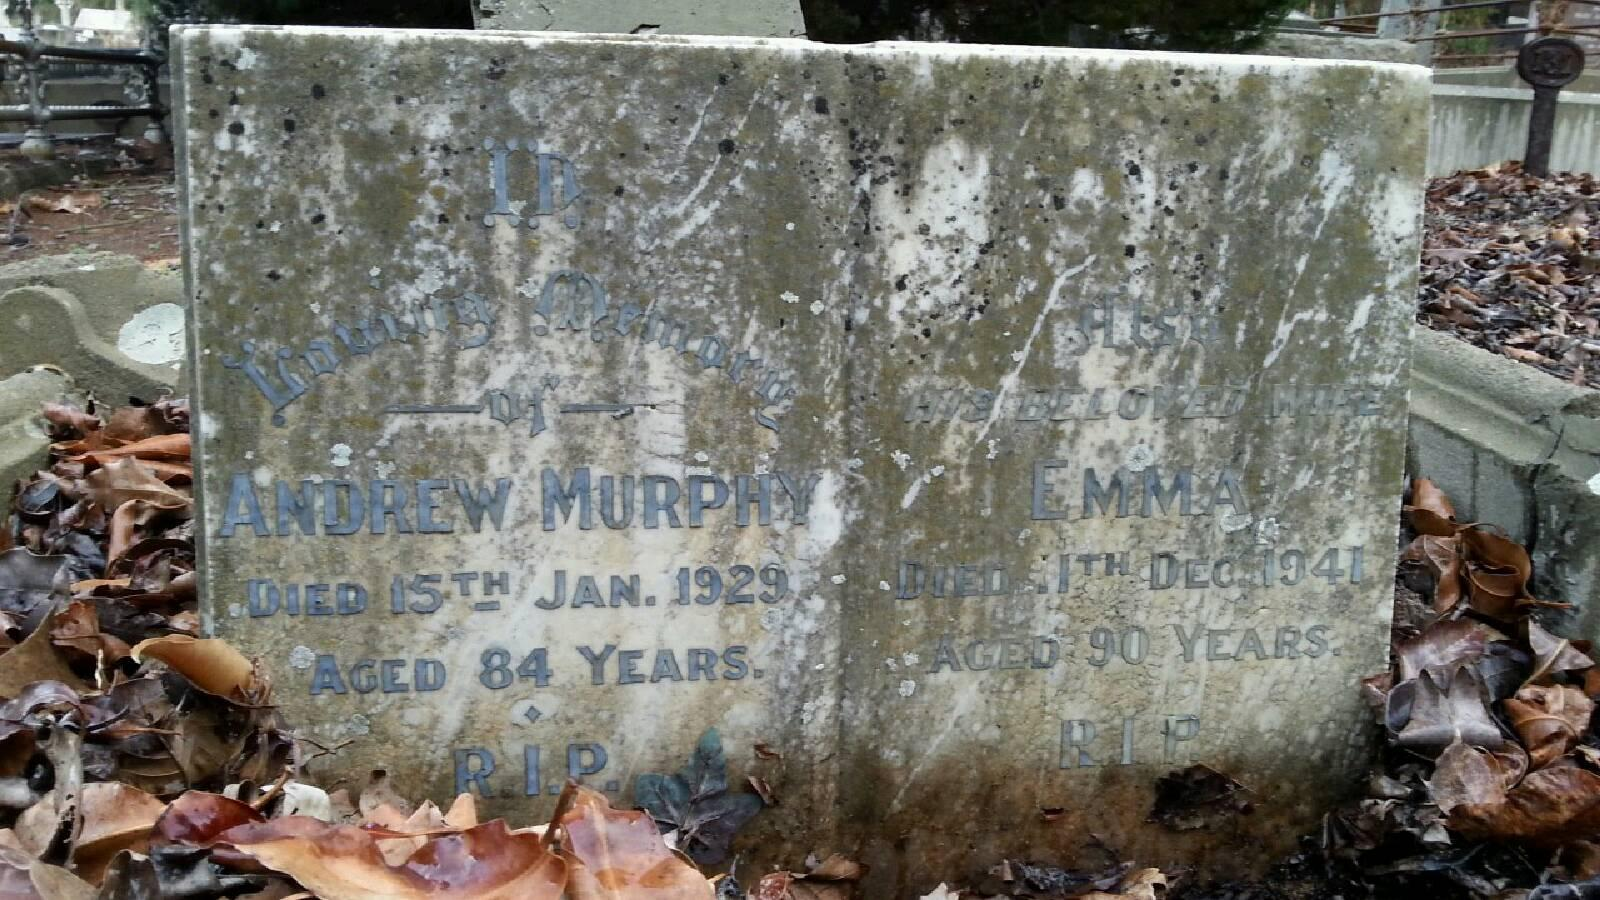upright: (175, 21, 1427, 813)
